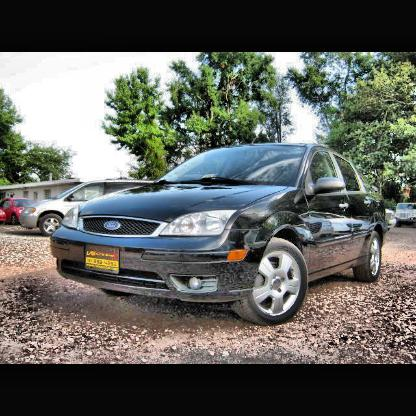Ford Focus Sedan 2007: (52, 145, 388, 327)
